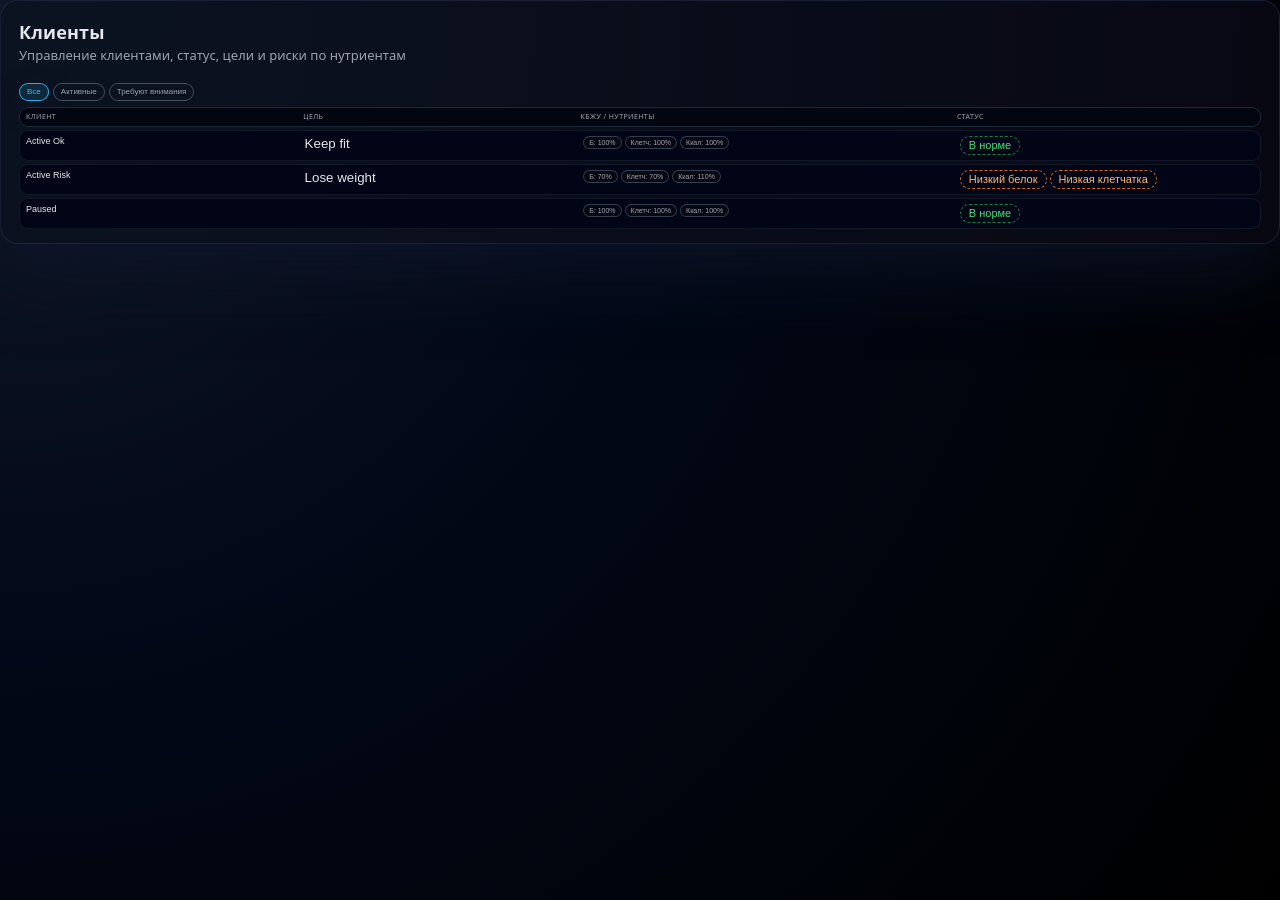
Test case: ClientList › фильтрует по "Активные" и "Требуют внимания"
Expected: the text "Active Ok" is shown, x1=26 y1=136 x2=64 y2=146
Click the button "Активные" at (79, 92), box x1=53 y1=82 x2=105 y2=100
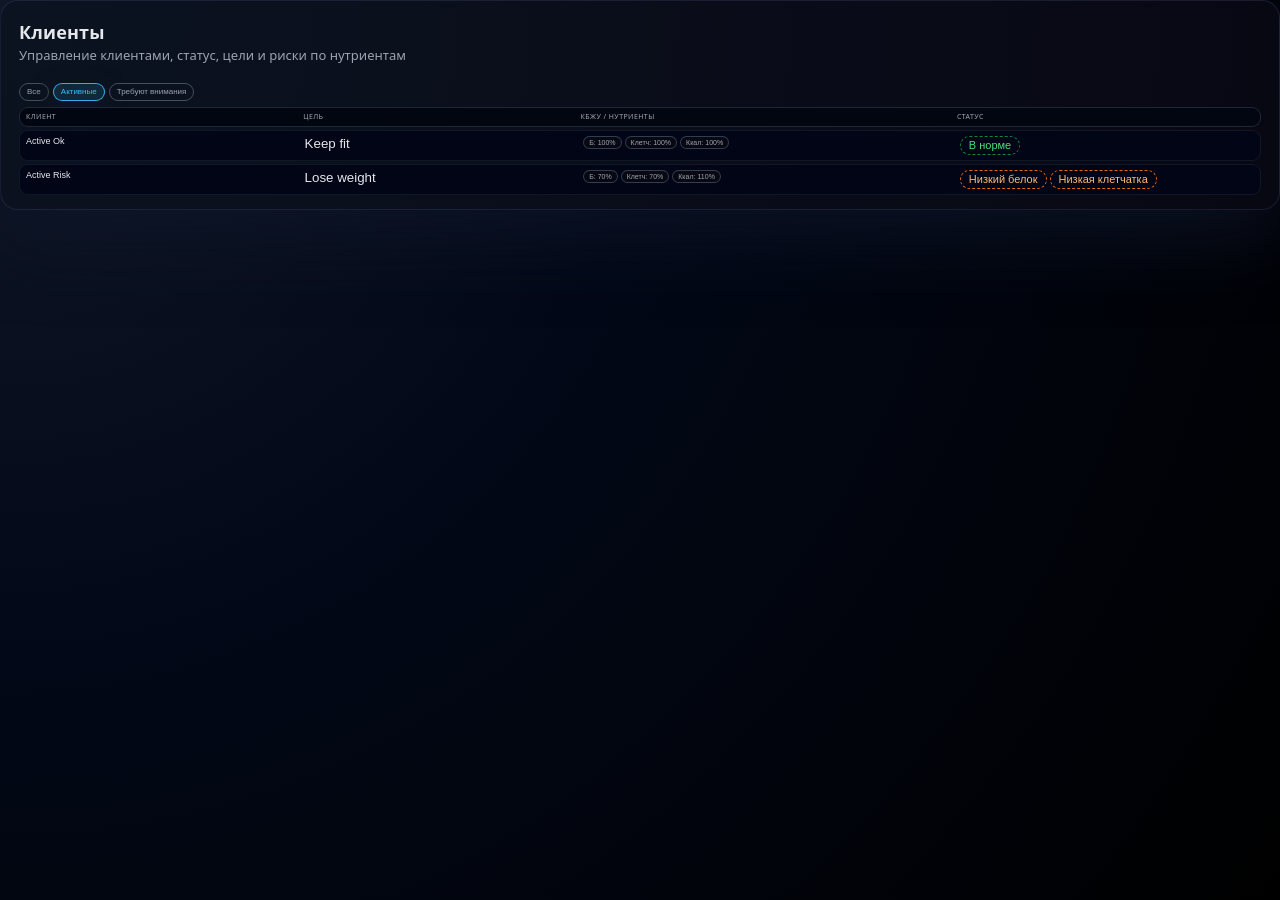
Expected: the text "Active Ok" is shown, x1=26 y1=136 x2=64 y2=146
Now the button "Paused" is gone
Click the button "Требуют внимания" at (152, 92), box x1=109 y1=82 x2=194 y2=100
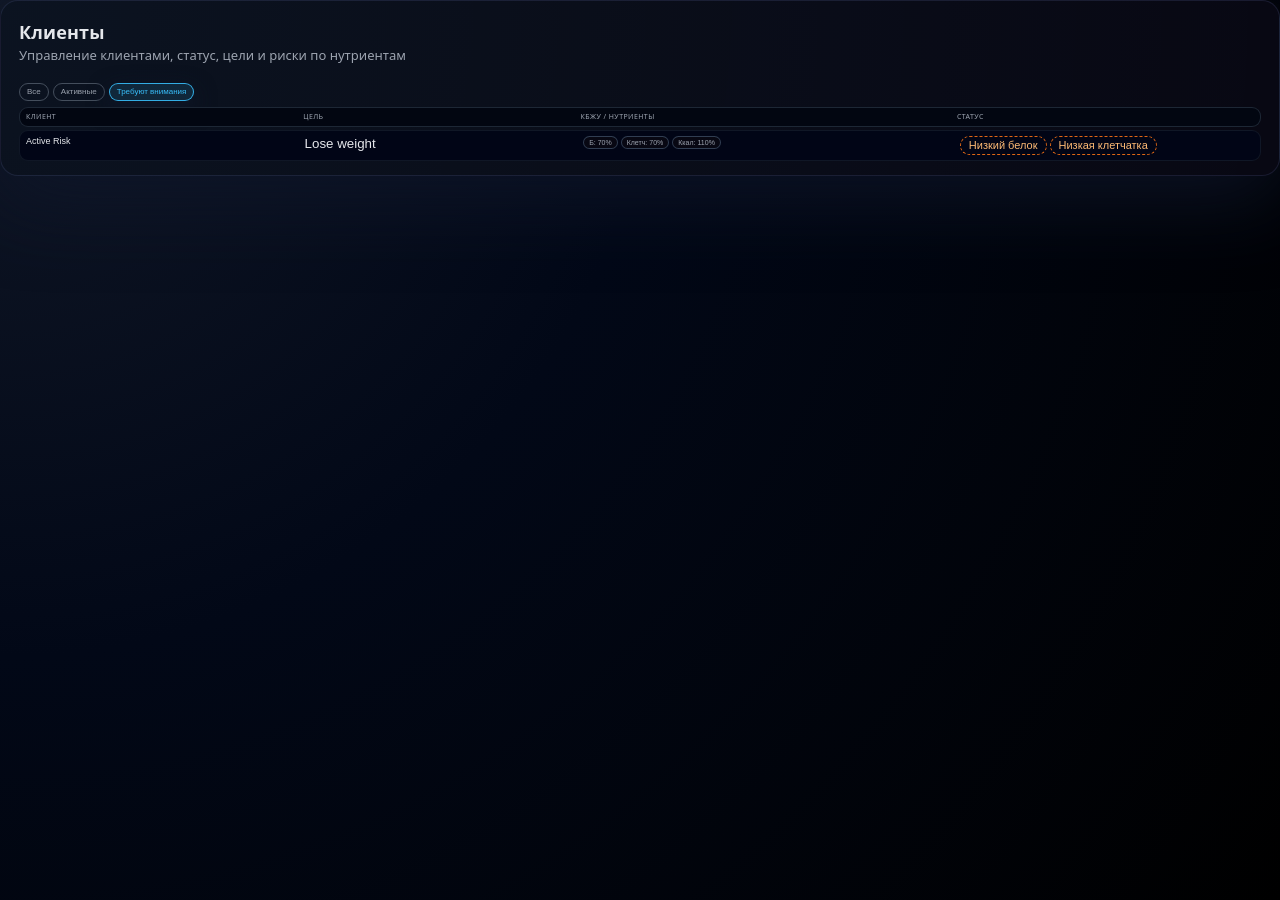
Expected: the text "Active Risk" is shown, x1=26 y1=136 x2=70 y2=146
Now the button "Active Ok" is gone
